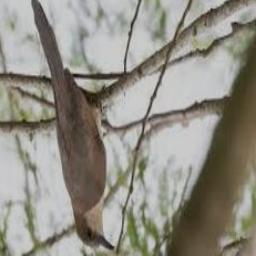Cuckoo: (31, 0, 114, 250)
